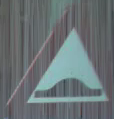Speed Breaker ahead: (12, 12, 105, 109)
